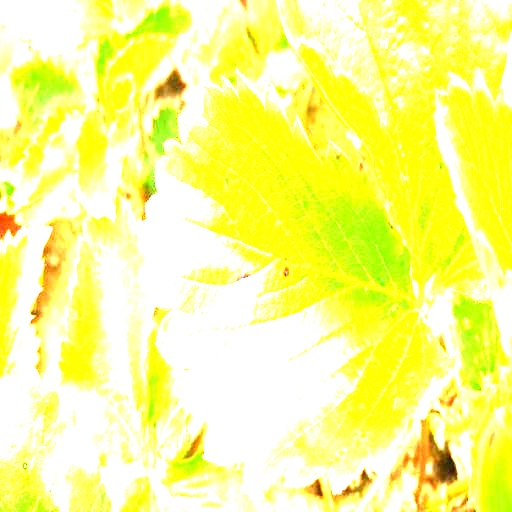Leaf Spot: (138, 68, 456, 493), (276, 0, 511, 287), (50, 193, 161, 468), (0, 364, 112, 511), (144, 309, 215, 463), (0, 223, 53, 376), (0, 0, 116, 56)
